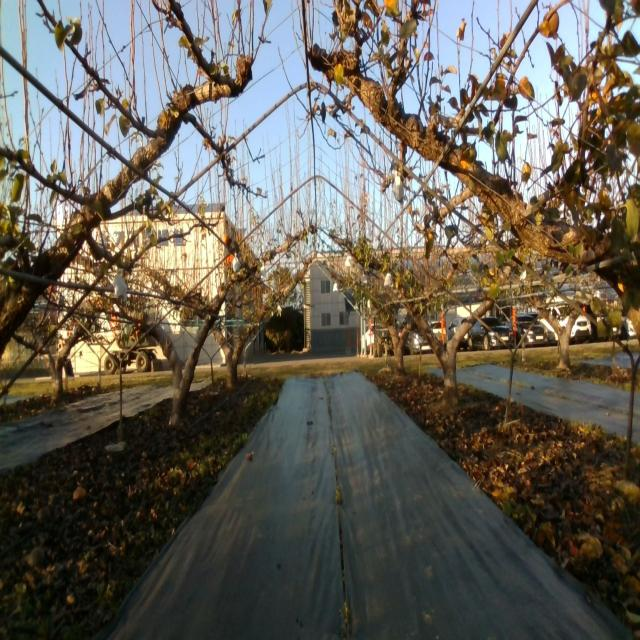pearbags: (114, 269, 128, 302), (392, 170, 404, 206)
